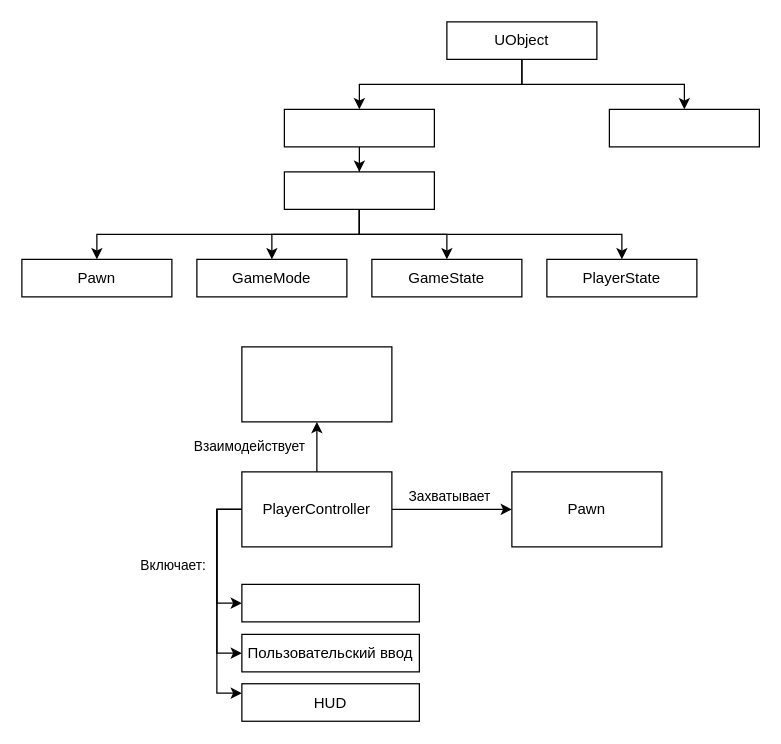
Some shapes in this 781 by 744 pixel diagram are drawn without their labels. Each missing label, with the centre of its shape:
"AActor" belongs at point 358,127.
"Object" belongs at point 683,127.
"PlayerCameraManager" belongs at point 330,602.
"Игра (симуляция) GameMode GameState" belongs at point 316,384.
"Классы Gameplay Framework" belongs at point 358,190.
